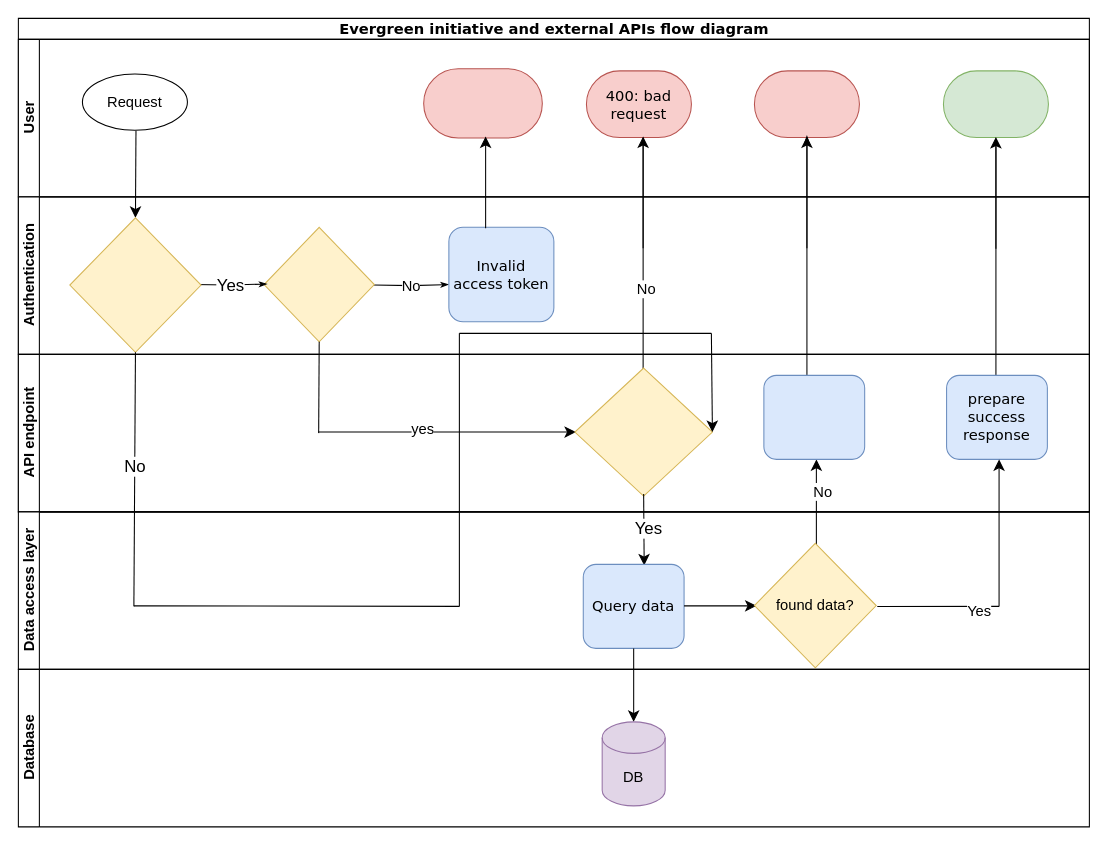
This 1108x845 diagram has some shape labels left out. The centre of each missing label's shape, as x and y in pixels:
"200: response" goes at [995,104].
"401: unauthorised" goes at [482,103].
"404: bad request" goes at [806,104].
"Authentication required?" goes at [135,284].
"Authorised?" goes at [318,284].
"prepare error response" goes at [814,416].
"validate request payload" goes at [643,431].
